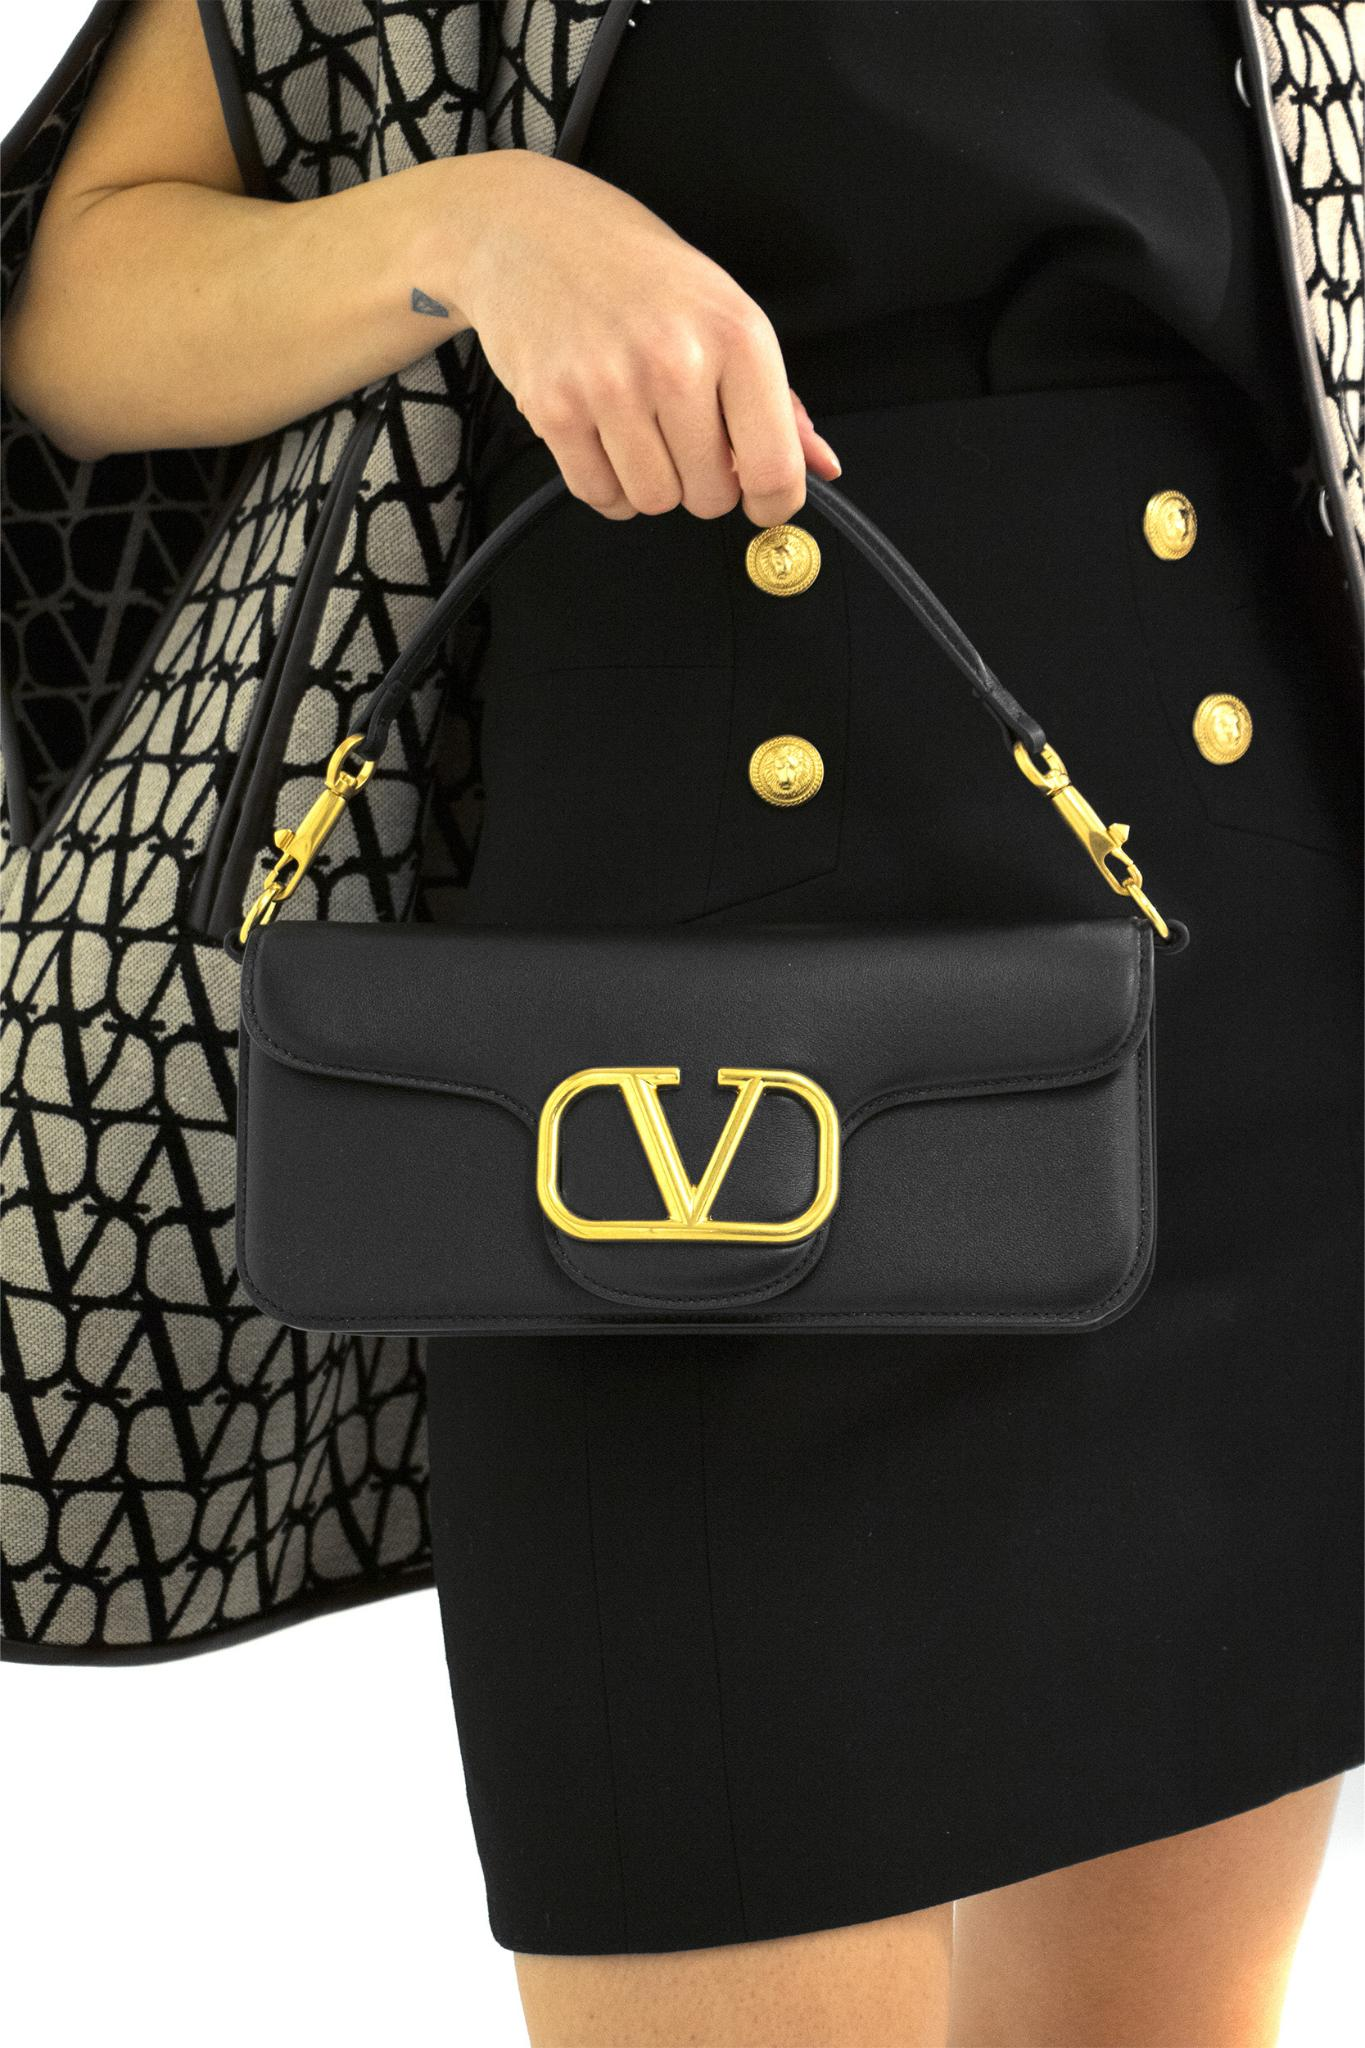VALENTINO: (536, 1067, 839, 1243)
